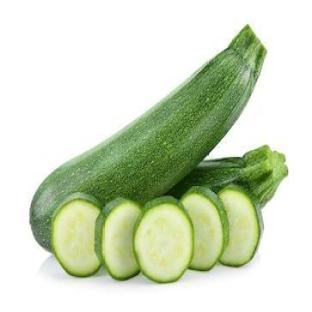Zucchini: (31, 26, 266, 249), (168, 146, 287, 207), (134, 197, 193, 283), (52, 194, 100, 277), (181, 186, 228, 269), (95, 198, 140, 279), (219, 185, 263, 266)
